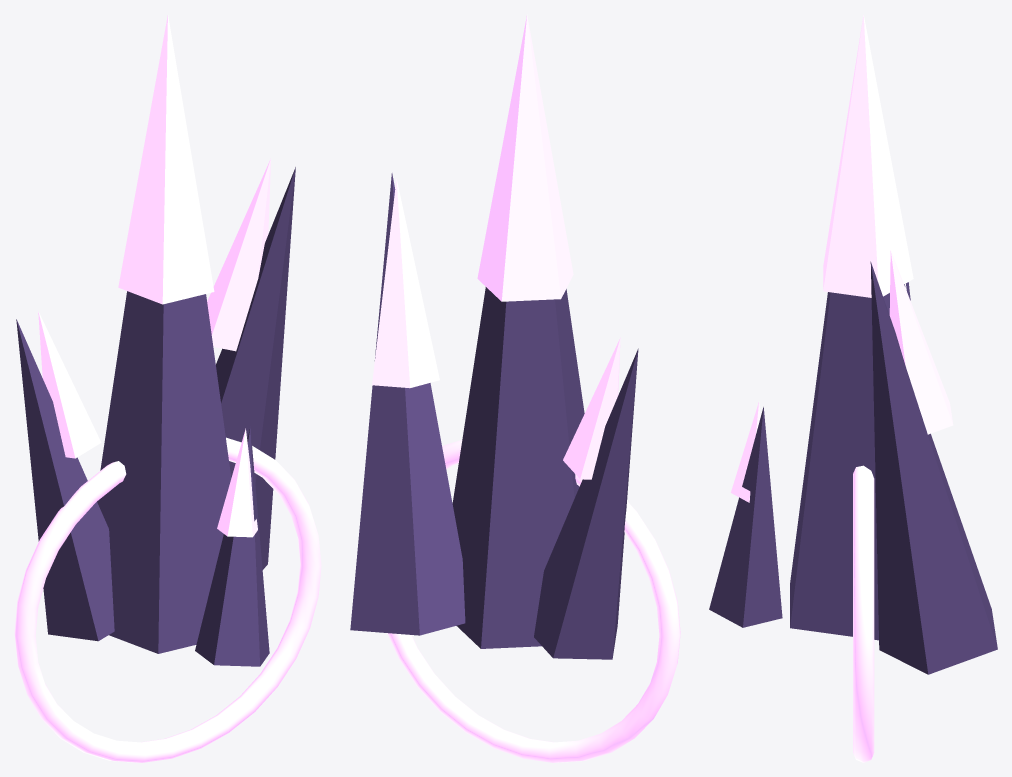
The model's file is crystal.glb.
The picture shows the model from 3 angles, left to right: view 1: azimuth 30°, elevation 25°; view 2: azimuth 150°, elevation 25°; view 3: azimuth 270°, elevation 25°; orthographic projection.
Parts seen in each view (by area): view 1: shard, base_ring, tip, shard.002, shard.001, shard.003, tip.001, tip.002, tip.003; view 2: shard, shard.001, shard.002, tip, base_ring, tip.001, tip.002; view 3: shard.001, shard, tip, shard.003, base_ring, tip.001, tip.003.
Boxes of the visible parts, left/top/right/bottom form: shard: left=97, top=291, right=231, bottom=653; base_ring: left=14, top=437, right=321, bottom=762; tip: left=118, top=15, right=214, bottom=304; shard.002: left=16, top=319, right=114, bottom=641; shard.001: left=216, top=167, right=295, bottom=569; shard.003: left=195, top=427, right=269, bottom=666; tip.001: left=207, top=158, right=270, bottom=351; tip.002: left=38, top=311, right=101, bottom=458; tip.003: left=217, top=428, right=257, bottom=537; shard: left=452, top=287, right=584, bottom=648; shard.001: left=350, top=173, right=465, bottom=635; shard.002: left=534, top=348, right=638, bottom=659; tip: left=477, top=14, right=573, bottom=301; base_ring: left=387, top=440, right=680, bottom=762; tip.001: left=372, top=179, right=439, bottom=388; tip.002: left=563, top=337, right=620, bottom=479; shard.001: left=870, top=261, right=997, bottom=674; shard: left=790, top=284, right=905, bottom=640; tip: left=823, top=15, right=913, bottom=297; shard.003: left=709, top=407, right=782, bottom=627; base_ring: left=853, top=465, right=874, bottom=762; tip.001: left=889, top=250, right=953, bottom=434; tip.003: left=731, top=401, right=760, bottom=502.
Size of the model in its own units: 1.6 by 3.73 by 1.33.
